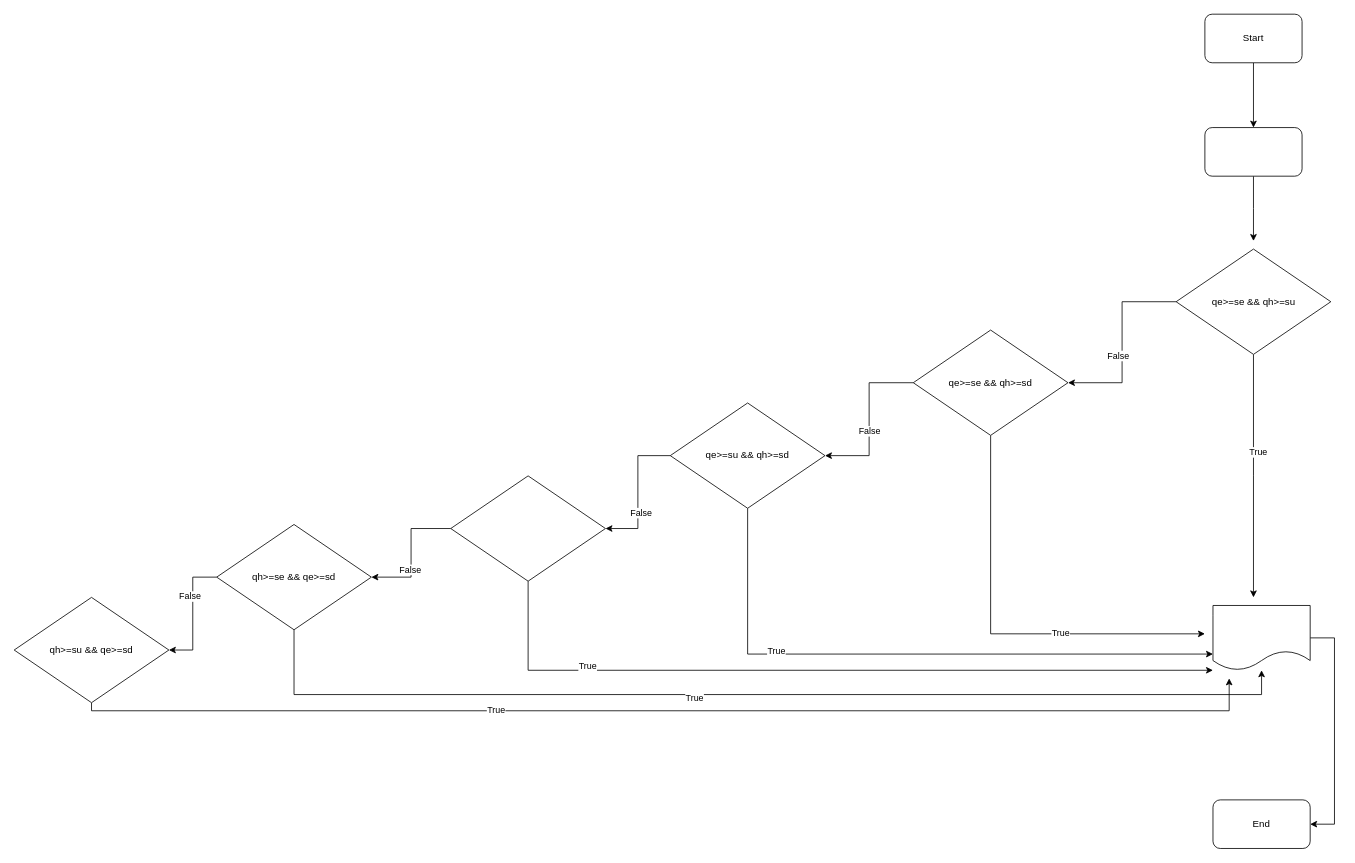
Image size: 1355x863. Some labels were removed from this diagram. The box of each missing label's shape, as (x1, y1, x2, y2) in pixels:
qh>=se && qe>=su: (450, 475, 605, 581)
şe, şu, şd qh.qe: (1204, 127, 1302, 176)
Şkaf qapıdan keçir: (1212, 605, 1310, 670)
